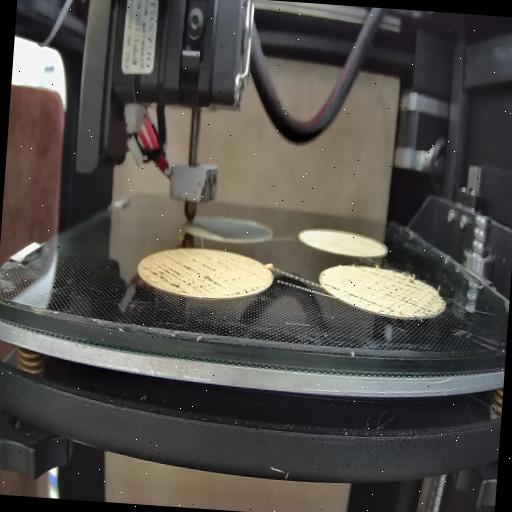under_extrusion: (143, 257, 263, 298), (367, 270, 438, 318), (324, 283, 368, 304)
